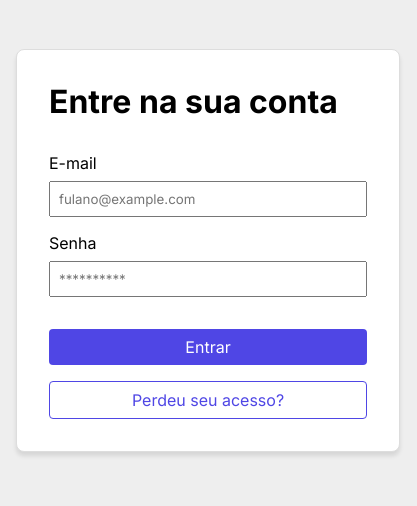
Testa funcionalidades relacionadas ao login › Testa o login com um usuário inexistente
This screenshot has width=417, height=506.
Type "user@example.com" into the field with test id "email".
click(208, 199); type("user@example.com")  # box [49,181,367,217]
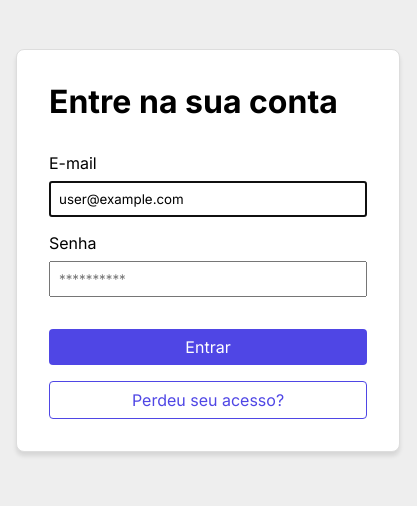
Type "password123" into the password field with test id "password".
click(208, 279); type("password123")  # box [49,261,367,297]
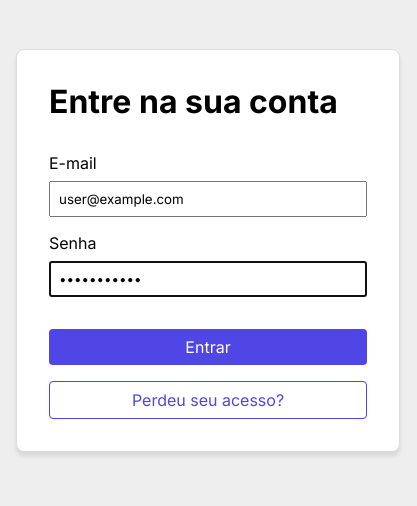
Click the button "Entrar".
click(208, 347)  # box [49,329,367,365]
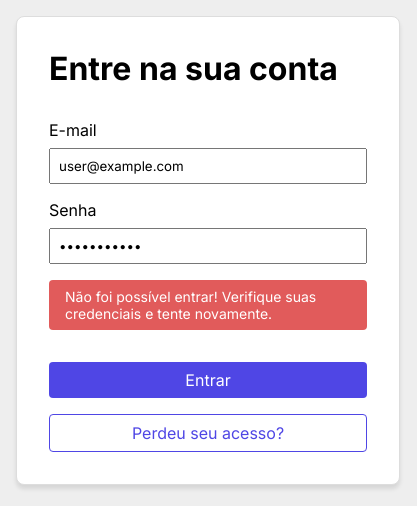
expect the text with test id "login-error" is shown: met, box [49,280,367,330]
